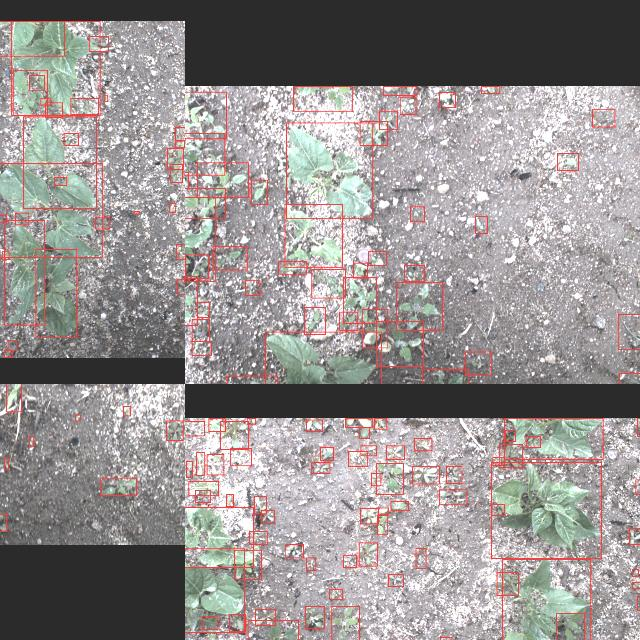crop: (491, 462, 601, 558), (0, 163, 102, 257), (12, 20, 100, 114), (287, 122, 373, 218), (503, 558, 591, 640), (24, 116, 96, 208), (265, 331, 381, 384), (185, 548, 244, 632), (4, 220, 44, 324), (185, 507, 253, 567), (503, 418, 602, 458), (284, 204, 342, 266), (36, 249, 76, 337), (185, 196, 215, 280), (0, 20, 65, 55), (189, 480, 219, 496)
weed: (396, 282, 442, 330), (376, 322, 424, 366), (185, 90, 226, 137), (198, 162, 248, 196), (185, 132, 225, 174), (12, 69, 48, 115), (343, 277, 377, 323), (294, 86, 352, 110), (185, 187, 225, 217), (248, 619, 298, 640), (362, 308, 388, 348), (311, 268, 345, 298), (331, 605, 359, 640), (376, 462, 404, 493), (234, 549, 262, 579), (617, 313, 640, 348), (220, 421, 248, 449), (557, 612, 585, 640), (213, 247, 247, 270), (422, 369, 468, 384), (360, 121, 388, 145), (100, 477, 136, 495), (185, 275, 197, 324), (304, 308, 326, 334), (465, 352, 491, 374), (186, 254, 208, 278), (500, 443, 522, 467), (358, 542, 378, 566), (227, 375, 277, 384), (70, 98, 98, 114), (439, 488, 467, 504), (412, 466, 440, 482), (498, 572, 518, 594), (6, 384, 21, 411), (192, 319, 210, 341), (306, 606, 324, 628), (251, 180, 267, 204), (593, 108, 615, 125), (338, 312, 358, 330), (558, 152, 578, 170), (206, 454, 224, 474), (230, 448, 252, 464), (278, 262, 306, 274), (379, 110, 397, 128), (167, 148, 183, 168), (404, 265, 424, 281), (167, 420, 183, 440), (255, 609, 275, 625), (348, 450, 368, 466), (400, 96, 416, 114), (229, 614, 245, 632), (185, 420, 204, 435), (192, 341, 212, 355), (89, 36, 108, 50), (352, 262, 368, 278), (384, 86, 416, 94), (446, 466, 462, 482), (368, 251, 386, 265), (249, 530, 267, 544), (285, 543, 303, 557), (360, 508, 378, 522), (386, 445, 404, 459), (346, 418, 372, 427), (619, 373, 640, 384), (30, 74, 44, 90), (46, 102, 62, 116), (439, 92, 455, 106), (410, 206, 424, 222), (202, 616, 218, 630), (170, 164, 182, 182), (475, 215, 487, 233), (414, 438, 432, 450), (416, 547, 426, 567), (378, 514, 388, 534), (246, 280, 260, 294), (209, 418, 225, 430), (254, 496, 266, 512), (388, 574, 404, 586), (320, 446, 334, 459), (312, 462, 330, 472), (391, 500, 409, 510), (196, 452, 204, 474), (629, 528, 640, 544), (64, 133, 78, 145), (96, 216, 110, 228), (197, 302, 209, 316), (196, 490, 210, 502), (344, 554, 356, 568), (306, 420, 322, 430), (361, 445, 377, 455), (16, 212, 28, 224), (262, 510, 274, 522), (175, 126, 185, 140), (306, 556, 316, 570), (374, 418, 388, 428), (526, 436, 540, 446), (176, 279, 185, 294), (176, 243, 185, 258), (480, 86, 500, 92), (330, 589, 342, 599), (371, 473, 381, 485), (492, 504, 504, 514), (360, 427, 370, 438), (0, 514, 6, 531), (505, 430, 515, 440), (55, 176, 67, 184), (186, 460, 192, 476), (226, 494, 234, 506), (493, 456, 505, 464), (8, 340, 16, 350), (635, 478, 640, 493), (4, 349, 12, 357), (176, 139, 184, 147), (40, 98, 50, 104), (2, 250, 8, 260), (124, 405, 130, 415), (378, 508, 388, 514), (247, 417, 256, 423), (0, 214, 7, 221), (632, 582, 640, 588), (632, 568, 638, 576), (170, 202, 174, 212), (4, 458, 8, 468), (30, 436, 34, 446), (440, 637, 451, 640), (104, 94, 108, 100), (76, 414, 80, 420), (134, 211, 138, 213)
